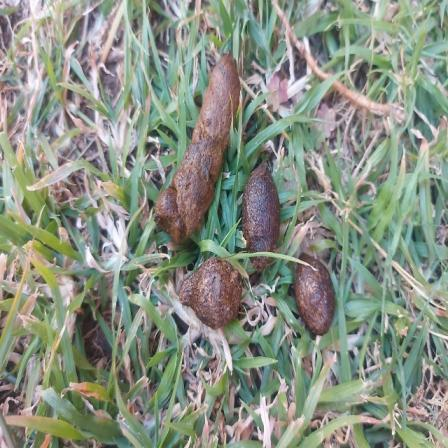dog-poop: (148, 55, 240, 240), (292, 251, 342, 333), (191, 257, 240, 331), (244, 163, 280, 260)
